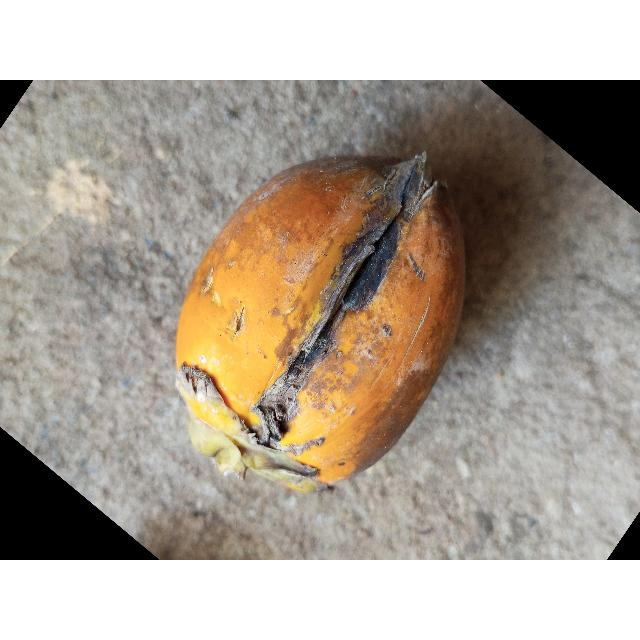damaged: (176, 152, 464, 492)
